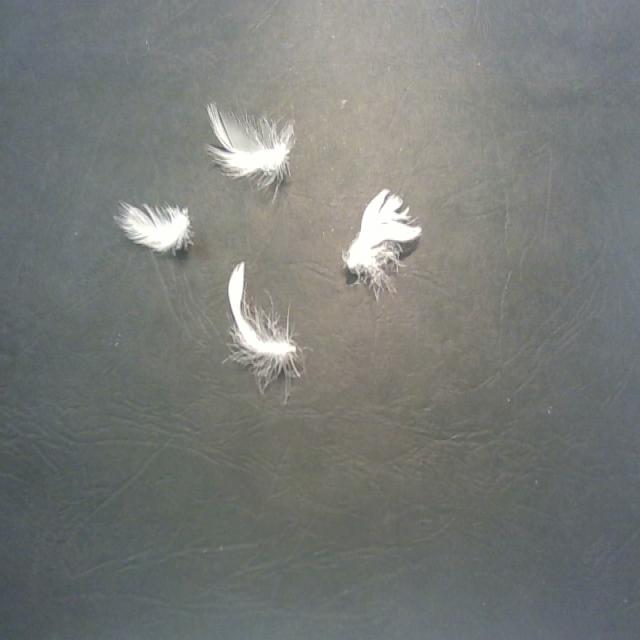feather: (223, 256, 305, 388), (340, 187, 421, 300), (200, 100, 298, 192), (113, 196, 195, 253)
